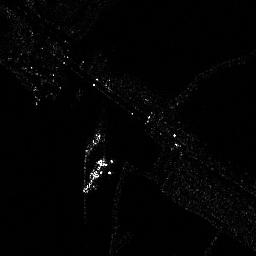ship: (81, 157, 107, 193), (84, 131, 102, 154)
